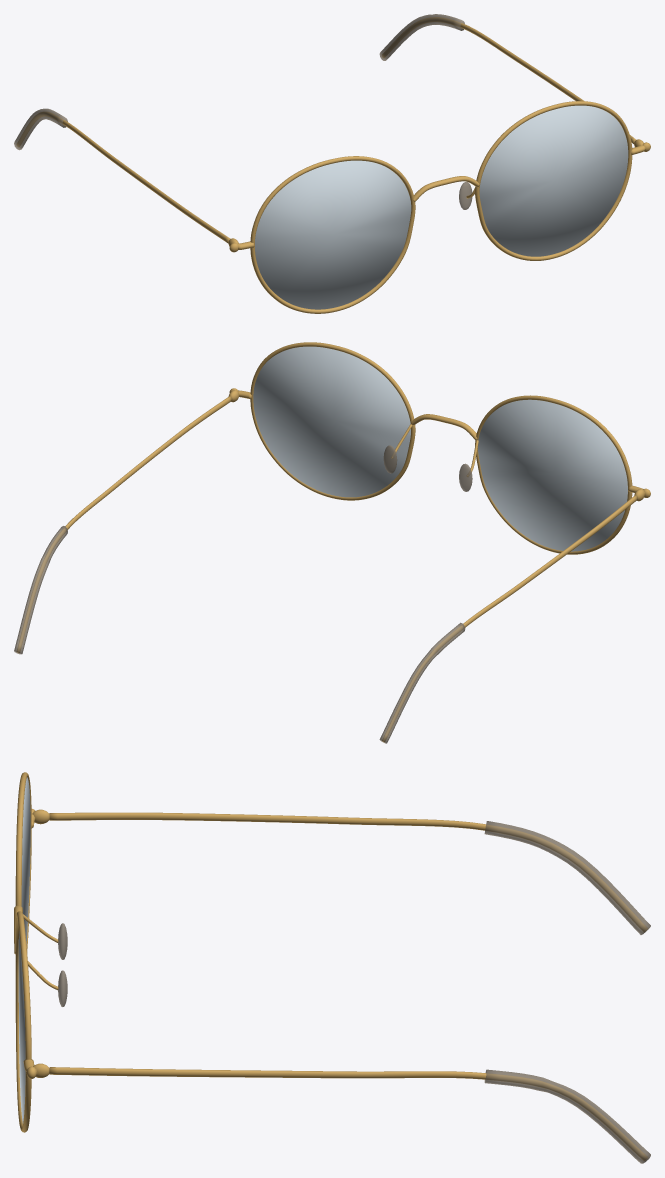
The picture shows the model from 3 angles, top to bottom: view 1: azimuth 30°, elevation 25°; view 2: azimuth 150°, elevation 25°; view 3: azimuth 270°, elevation 25°; orthographic projection. The views are drawn at different scales.
Parts seen in each view (by area): view 1: Lens_image_left, Rim_image_left, Temple_tip_image_left, Hinge_image_left; view 2: Lens_image_left, Rim_image_left, Temple_tip_image_left, Hinge_image_left; view 3: Rim_image_left, Temple_tip_image_left, Lens_image_left, Hinge_image_left.
Part boxes in pixels (x1,y1,x2,y2): Lens_image_left: (255,105,628,309); Rim_image_left: (16,17,650,313); Temple_tip_image_left: (14,14,472,209); Hinge_image_left: (228,139,643,246); Lens_image_left: (253,346,627,551); Rim_image_left: (16,342,650,742); Temple_tip_image_left: (14,445,472,743); Hinge_image_left: (228,390,644,501); Rim_image_left: (15,772,647,1160); Temple_tip_image_left: (58,821,650,1163); Lens_image_left: (18,777,30,1123); Hinge_image_left: (14,809,58,1077).
Bounding box in the file's own units: 0.14 × 0.0486 × 0.1431.
